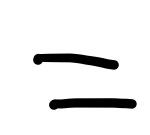eqv: (33, 53, 137, 109)
